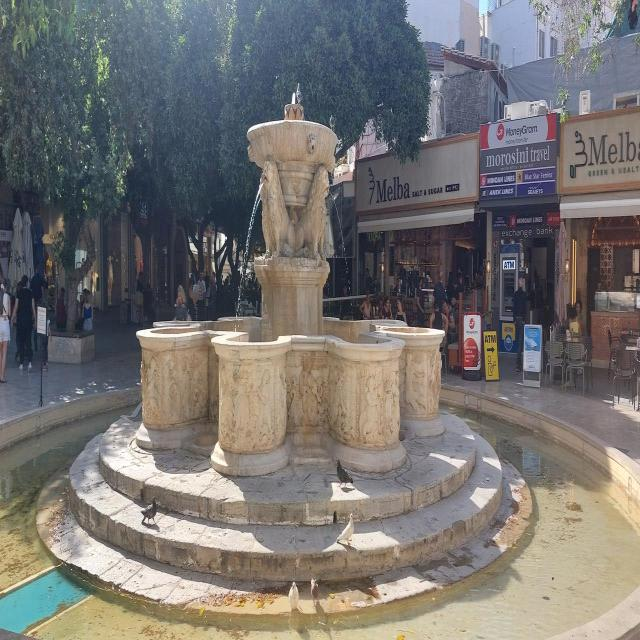Liontaria: (134, 105, 446, 472)
